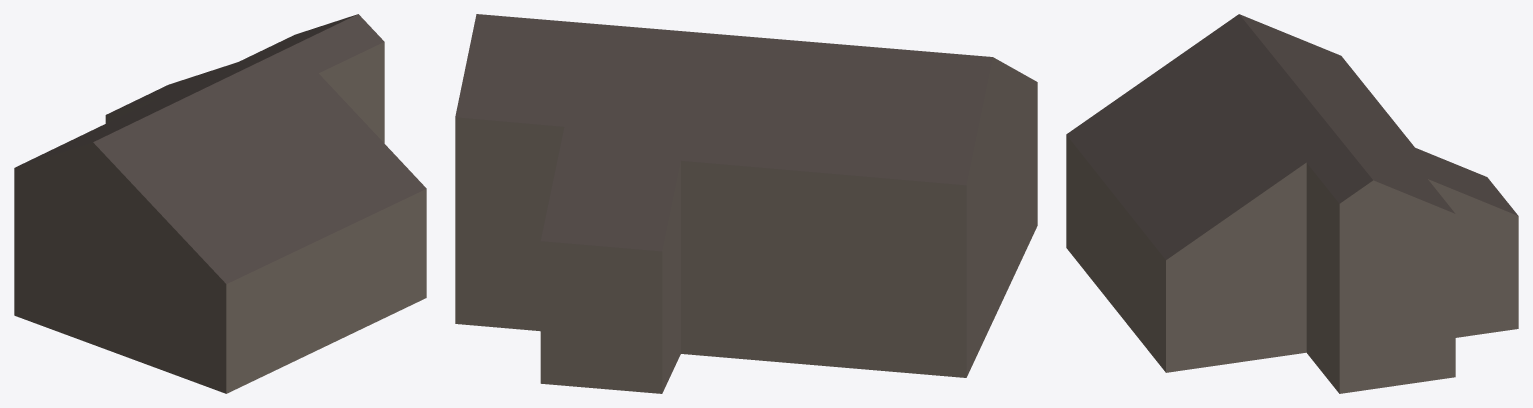
3 renders of one model, left to right at view 1: azimuth 30°, elevation 25°; view 2: azimuth 150°, elevation 25°; view 3: azimuth 270°, elevation 25°, orthographic. The views are drawn at different scales.
Parts seen in each view (by area): view 1: HP-w1376988797; view 2: HP-w1376988797; view 3: HP-w1376988797.
Boxes of the visible parts, x1,y1,x2,y2 form: HP-w1376988797: (14,14,426,393); HP-w1376988797: (455,14,1037,393); HP-w1376988797: (1066,14,1518,393).
Bounding box in the file's own units: 21.26 × 11.13 × 21.86.
